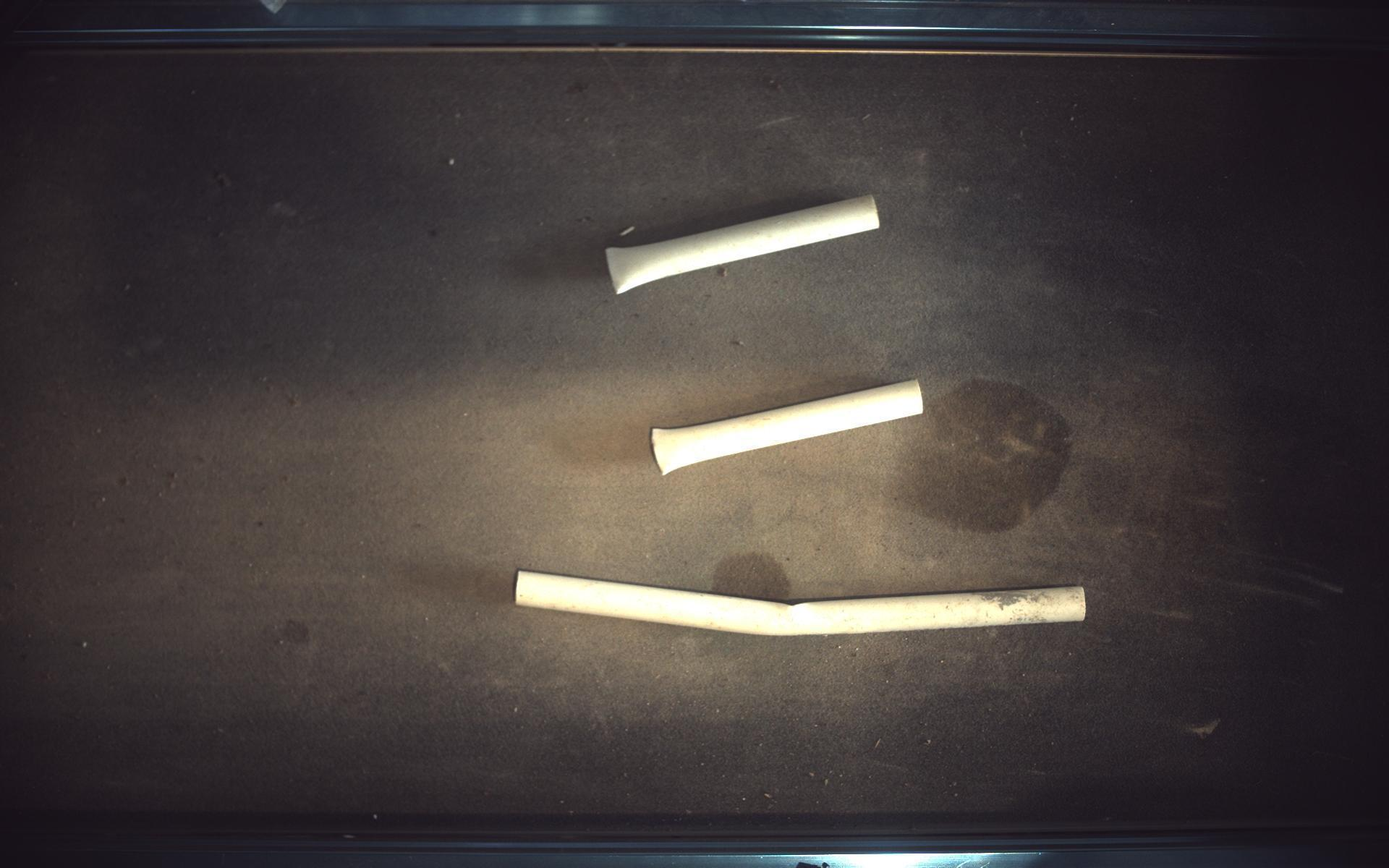pipes: (516, 571, 1089, 637), (606, 195, 881, 294), (652, 379, 925, 475)
